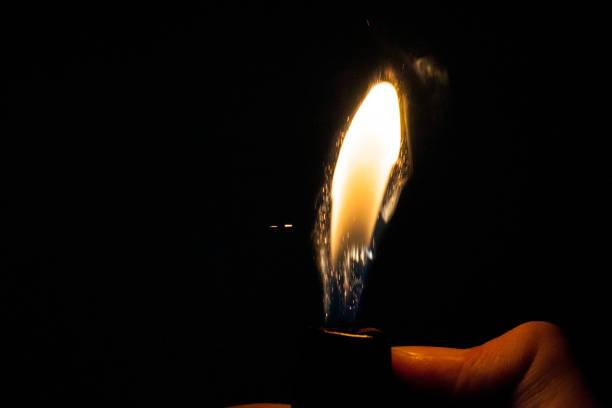Fire: (320, 32, 406, 322)
